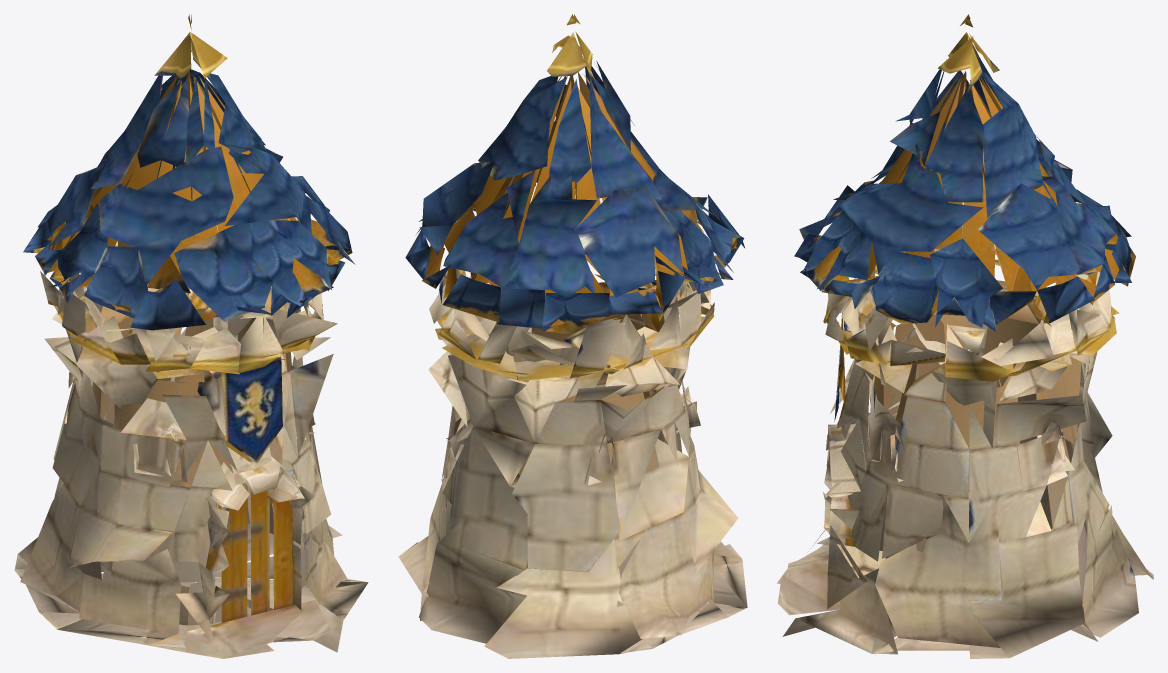
File: o-tour-semis.glb
3 views of the same model, side by side, from view 1: azimuth 30°, elevation 25°; view 2: azimuth 150°, elevation 25°; view 3: azimuth 270°, elevation 25° (orthographic).
Parts seen in each view (by area): view 1: o-tour-semis; view 2: o-tour-semis; view 3: o-tour-semis.
Part boxes in pixels (x1,y1,x2,y2): o-tour-semis: [14, 14, 368, 658]; o-tour-semis: [398, 14, 747, 658]; o-tour-semis: [777, 14, 1153, 658].
Bounding box in the file's own units: 0.4988 × 0.9106 × 0.5234.
Materials: 1 (1 with a texture image).
